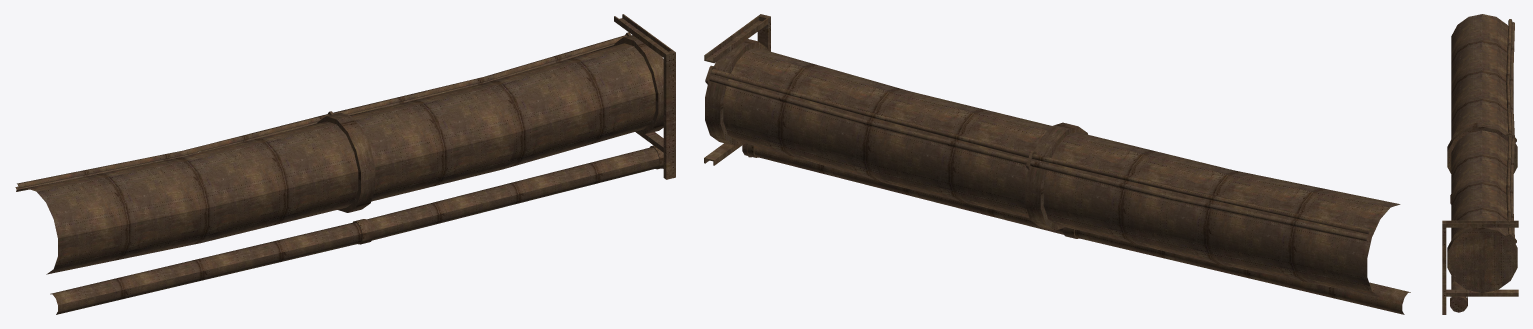
Rendered from pipeset32d_256_001a.glb.
The picture shows the model from 3 angles, left to right: view 1: azimuth 30°, elevation 25°; view 2: azimuth 150°, elevation 25°; view 3: azimuth 270°, elevation 25°; orthographic projection. The views are drawn at different scales.
Visible parts, largest first — view 1: 0_pipeset_metal; view 2: 0_pipeset_metal; view 3: 0_pipeset_metal.
Boxes of the visible parts, left/top/right/bottom form: 0_pipeset_metal: left=15, top=14, right=675, bottom=314; 0_pipeset_metal: left=704, top=14, right=1410, bottom=314; 0_pipeset_metal: left=1442, top=14, right=1518, bottom=314.
Bounding box in the file's own units: 6.5 × 1.27 × 0.9654.
1 material, 1 textured.
